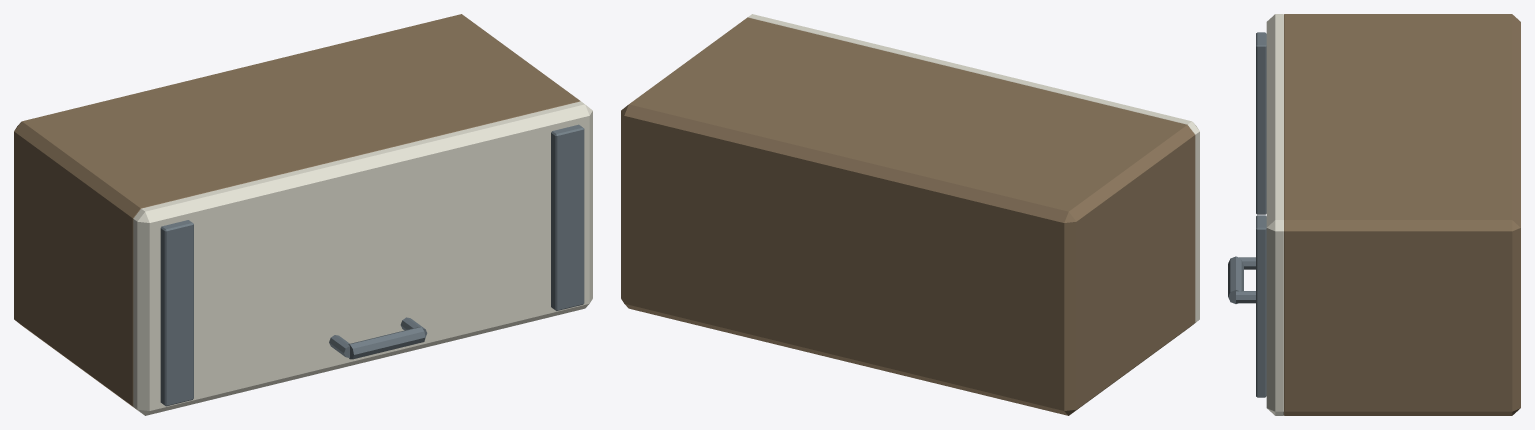
Rendered from walldrawer.glb.
The picture shows the model from 3 angles, left to right: view 1: azimuth 30°, elevation 25°; view 2: azimuth 150°, elevation 25°; view 3: azimuth 270°, elevation 25°; orthographic projection. The views are drawn at different scales.
Visible parts, largest first — view 1: Drawer front, Drawer shell, Corner strap, Corner strap.001, Drawer handle; view 2: Drawer shell, Drawer front; view 3: Drawer shell, Drawer front, Corner strap, Corner strap.001, Drawer handle.
Boxes of the visible parts, x1=… form: Drawer front: x1=133, y1=101, x2=592, y2=415; Drawer shell: x1=14, y1=14, x2=580, y2=410; Corner strap: x1=160, y1=220, x2=193, y2=406; Corner strap.001: x1=551, y1=124, x2=584, y2=310; Drawer handle: x1=348, y1=327, x2=425, y2=359; Drawer shell: x1=621, y1=17, x2=1195, y2=415; Drawer front: x1=748, y1=14, x2=1199, y2=327; Drawer shell: x1=1284, y1=14, x2=1520, y2=415; Drawer front: x1=1266, y1=14, x2=1283, y2=415; Corner strap: x1=1256, y1=32, x2=1266, y2=214; Corner strap.001: x1=1256, y1=215, x2=1266, y2=397; Drawer handle: x1=1228, y1=256, x2=1243, y2=303.
Size of the model in its own units: 0.7 by 0.3 by 0.406.
